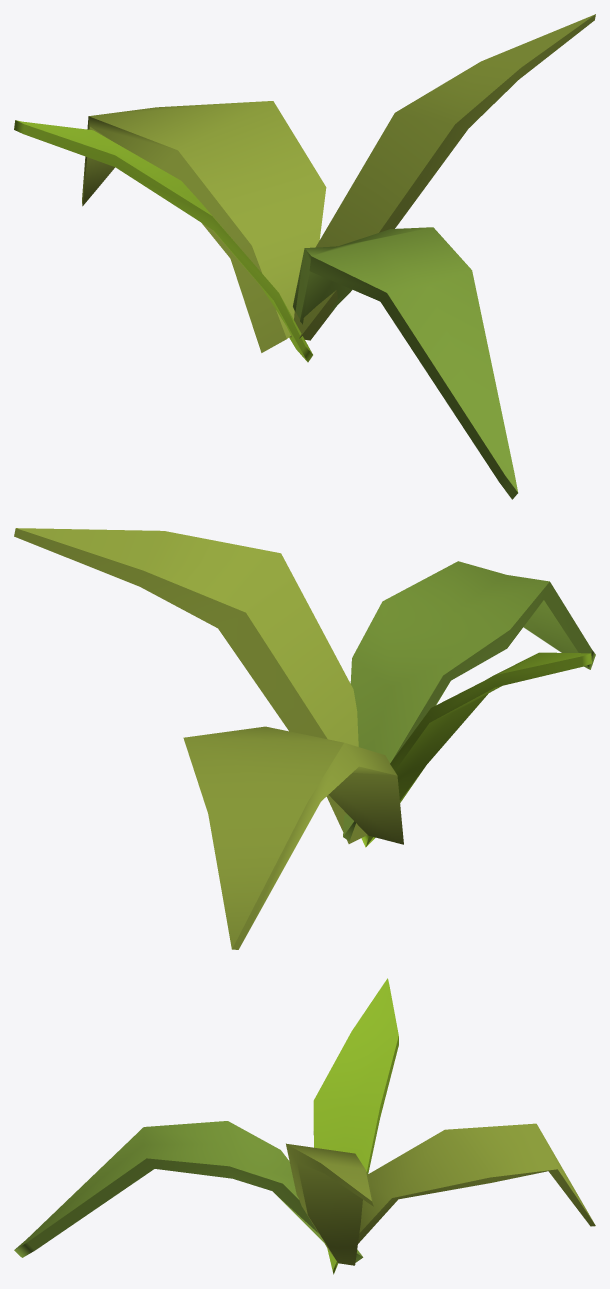
File: Palurdo_06.fbx
3 views of the same model, one above another, from view 1: azimuth 30°, elevation 25°; view 2: azimuth 150°, elevation 25°; view 3: azimuth 270°, elevation 25° (orthographic). The views are drawn at different scales.
Visible parts, largest first — view 1: Palurdo_06; view 2: Palurdo_06; view 3: Palurdo_06.
Boxes of the visible parts, x1=… form: Palurdo_06: x1=14, y1=14, x2=595, y2=499; Palurdo_06: x1=14, y1=528, x2=595, y2=949; Palurdo_06: x1=14, y1=978, x2=595, y2=1274.
Bounding box in the file's own units: 4.93 × 2.29 × 5.91.
